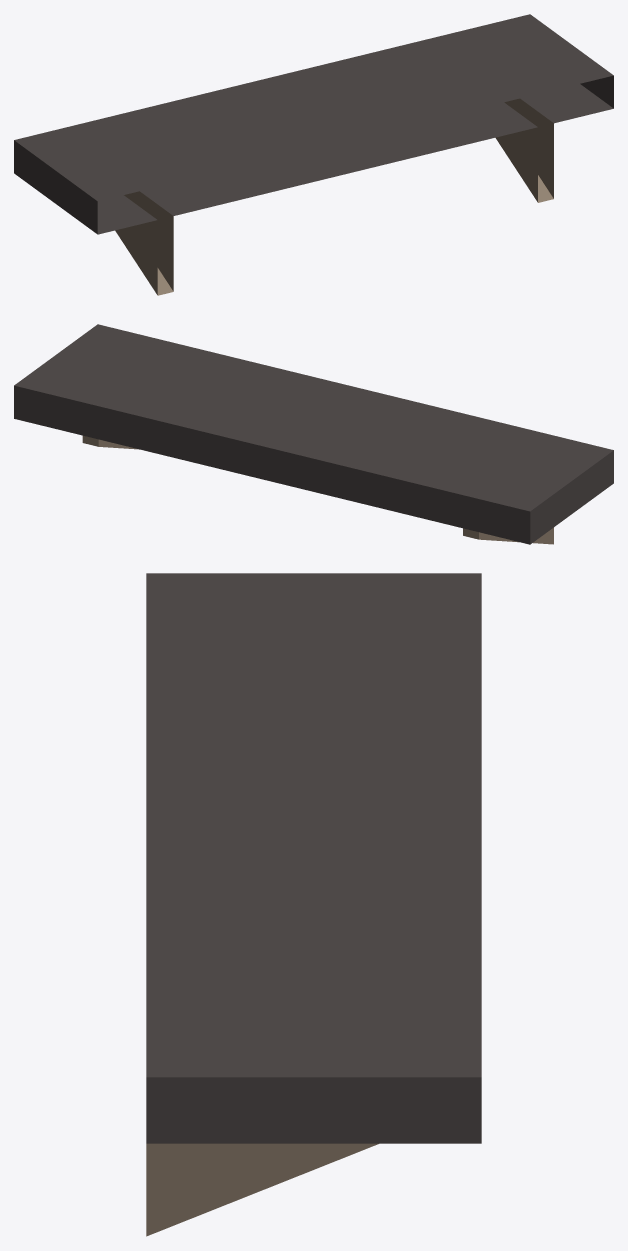
File: Sill.fbx
3 renders of one model, top to bottom at view 1: azimuth 30°, elevation 25°; view 2: azimuth 150°, elevation 25°; view 3: azimuth 270°, elevation 25°, orthographic. The views are drawn at different scales.
Visible parts, largest first — view 1: Sill; view 2: Sill; view 3: Sill.
Part boxes in pixels (x1=…): Sill: x1=14, y1=14, x2=613, y2=295; Sill: x1=14, y1=324, x2=613, y2=544; Sill: x1=146, y1=573, x2=481, y2=1236.
Bounding box in the file's own units: 132 × 26.56 × 37.02.
